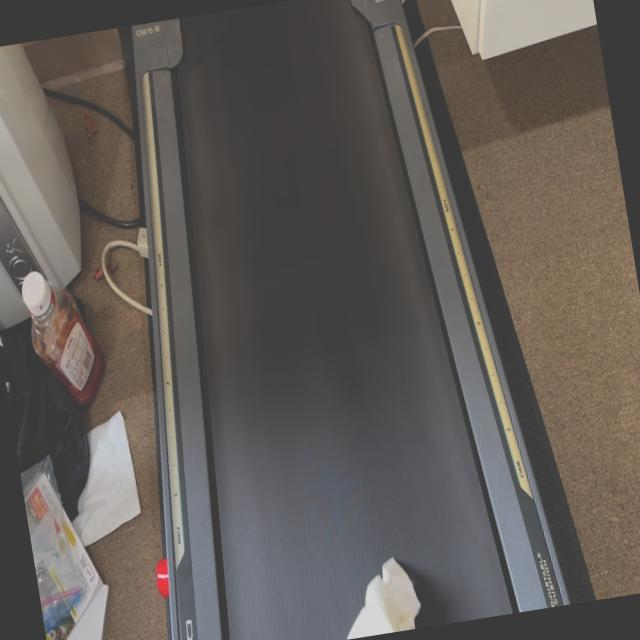Trash: (316, 540, 437, 640)
